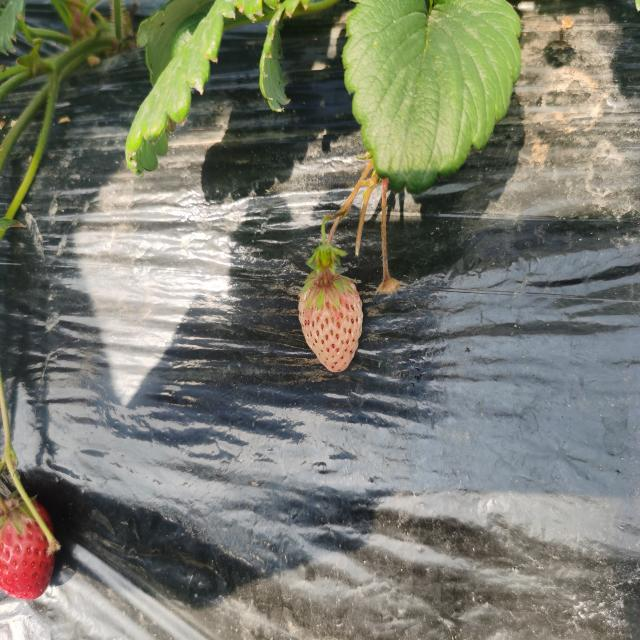strawberry: (1, 498, 53, 601)
